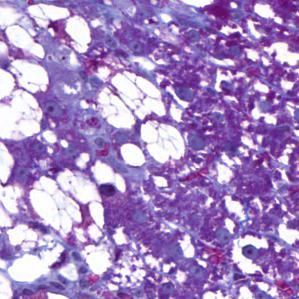ballooning: (26, 168, 109, 246), (95, 68, 169, 130), (22, 3, 94, 60), (2, 84, 46, 145), (138, 117, 189, 166)
